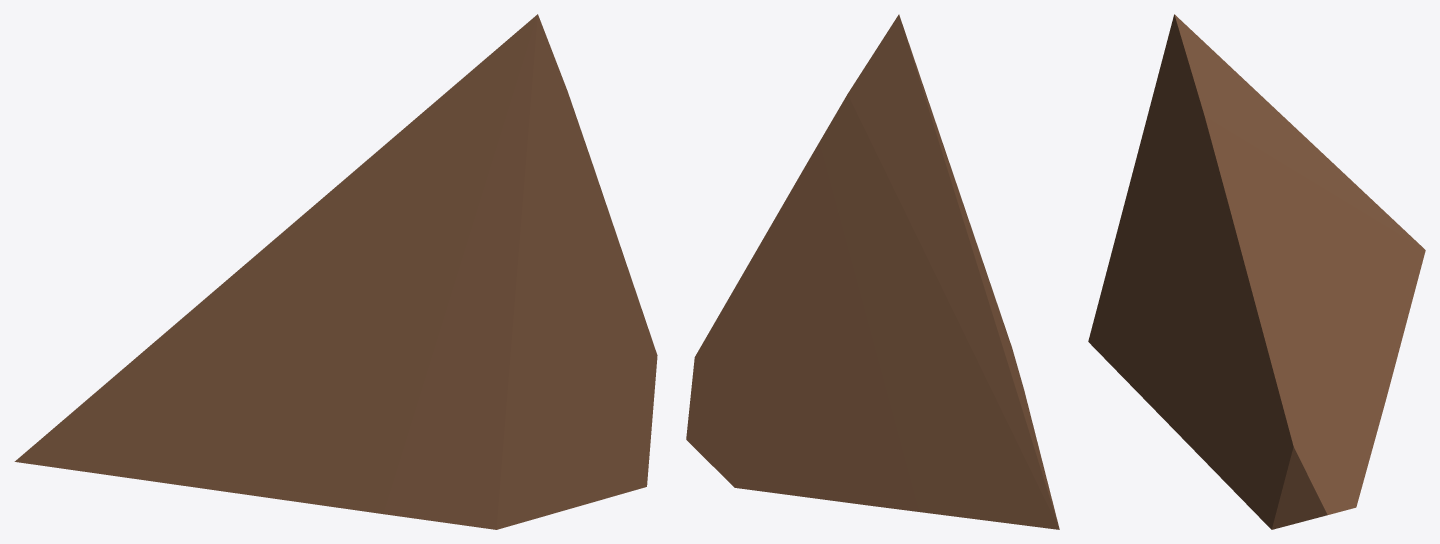
File: WoodCellCube_003_cell_015.fbx
3 views of the same model, side by side, from view 1: azimuth 30°, elevation 25°; view 2: azimuth 150°, elevation 25°; view 3: azimuth 270°, elevation 25° (orthographic). The views are drawn at different scales.
Parts seen in each view (by area): view 1: WoodCellCube_003_cell_015; view 2: WoodCellCube_003_cell_015; view 3: WoodCellCube_003_cell_015.
Part boxes in pixels (<box>): WoodCellCube_003_cell_015: <box>14,14,657,529</box>; WoodCellCube_003_cell_015: <box>686,14,1059,529</box>; WoodCellCube_003_cell_015: <box>1088,14,1425,529</box>.
Bounding box in the file's own units: 0.1523 × 0.2257 × 0.2351.
Materials: 1 (1 with a texture image).
